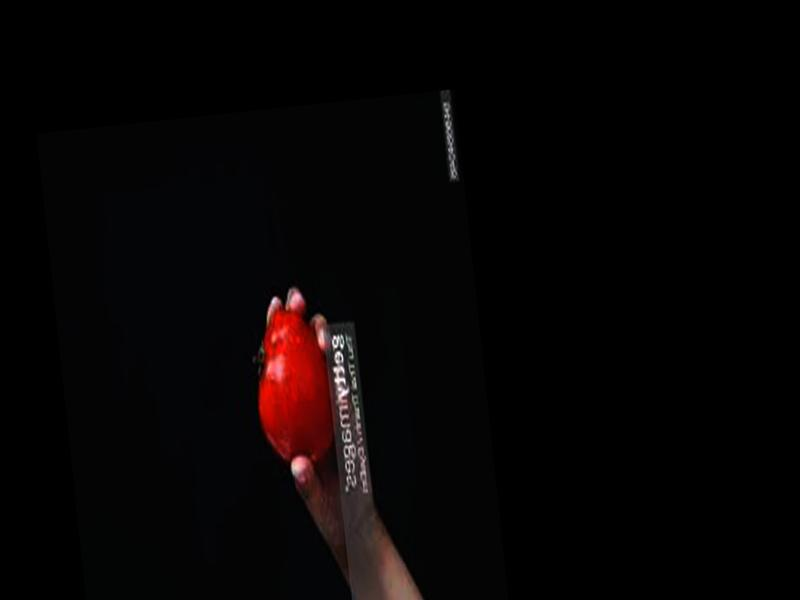Tomato: (247, 300, 339, 463)
